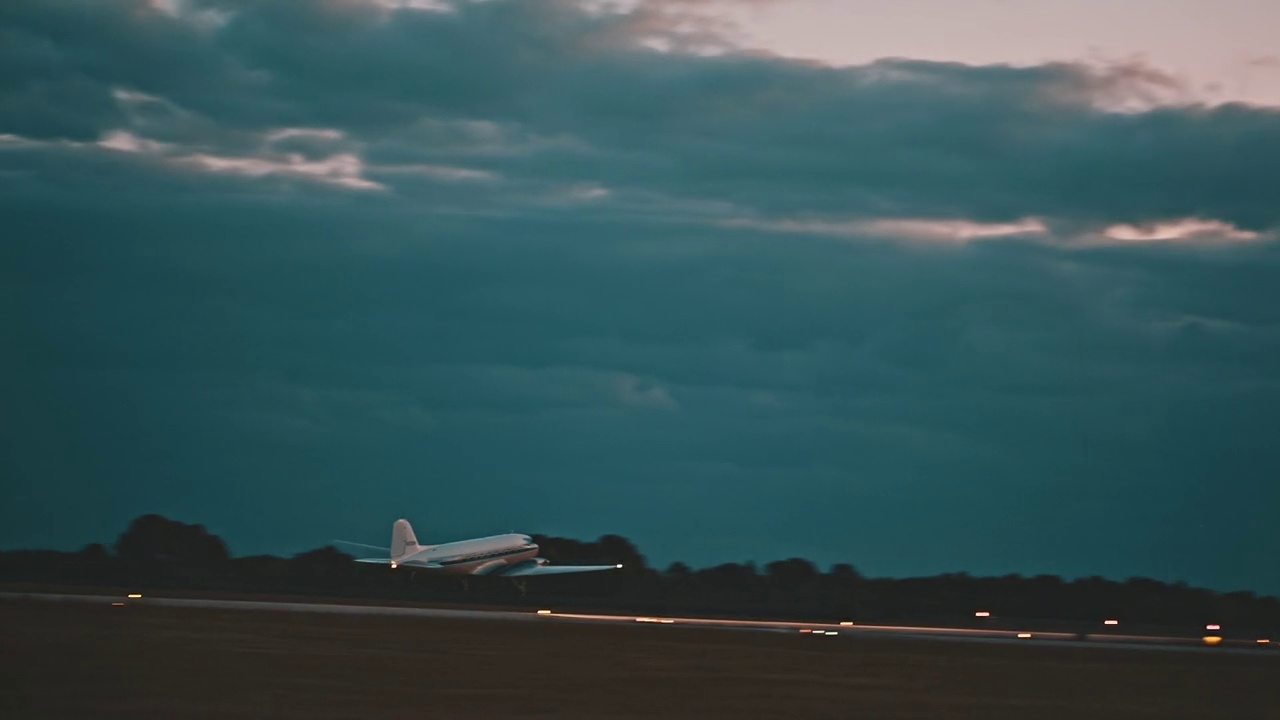plane: (334, 518, 624, 597)
